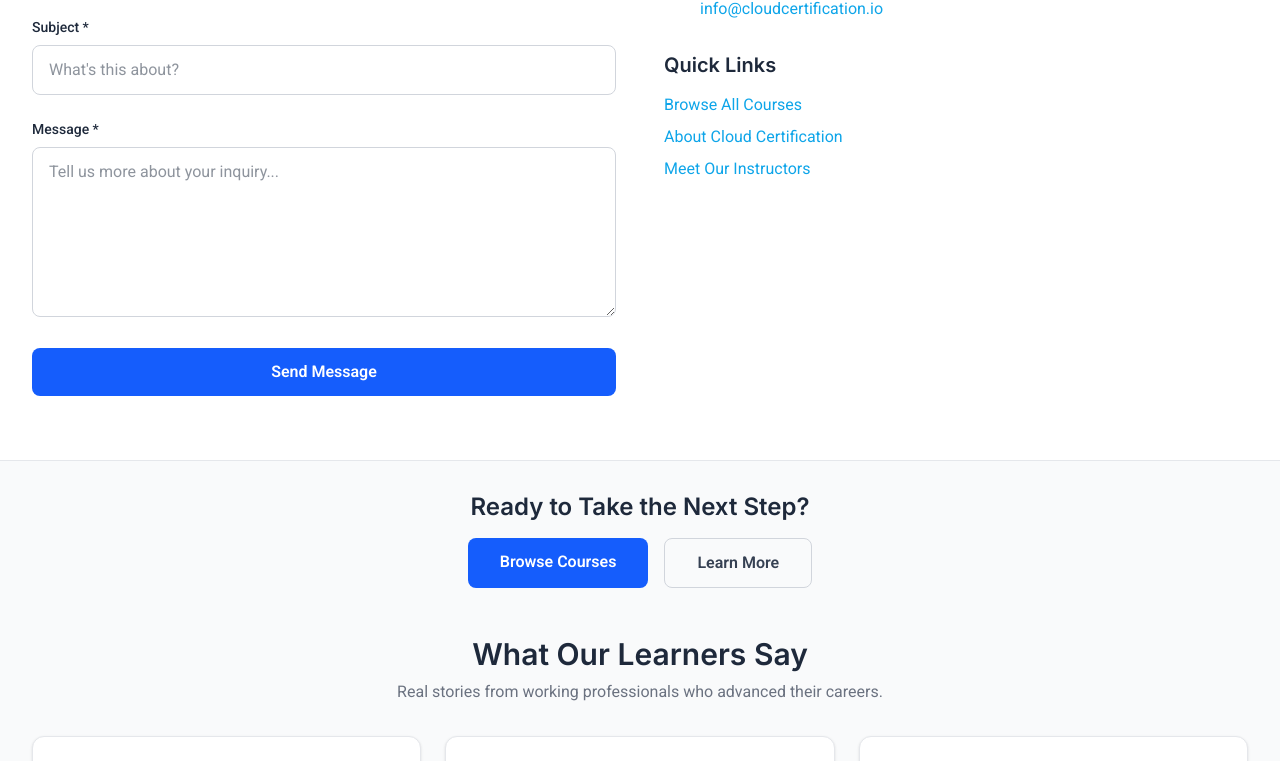
Test: Contact Page › should validate required fields
(page scrolled)
Try to submit empty form
Click the button "Send Message": (324, 372) [32,348,616,396]
(page scrolled)
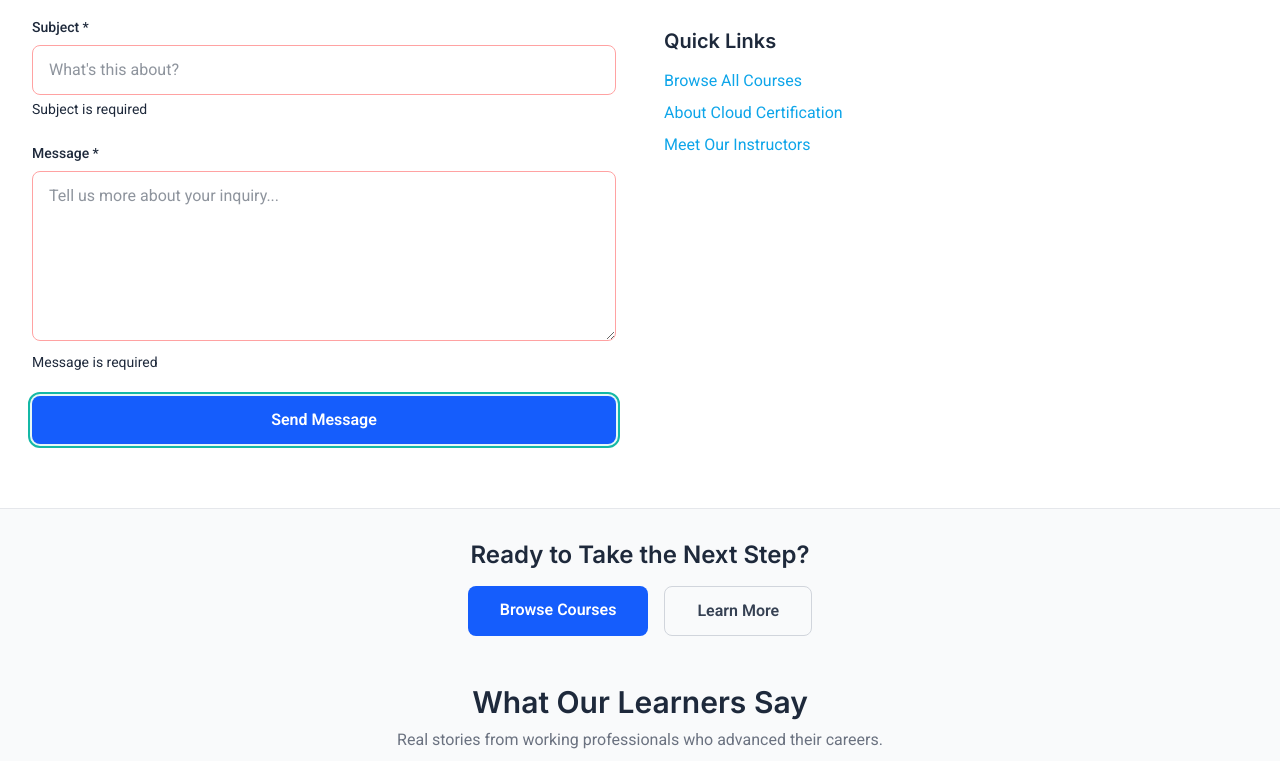
Check: the text "Subject is required" is shown, box [32,101,147,117]
Check: the text "Message is required" is shown, box [32,354,158,370]
